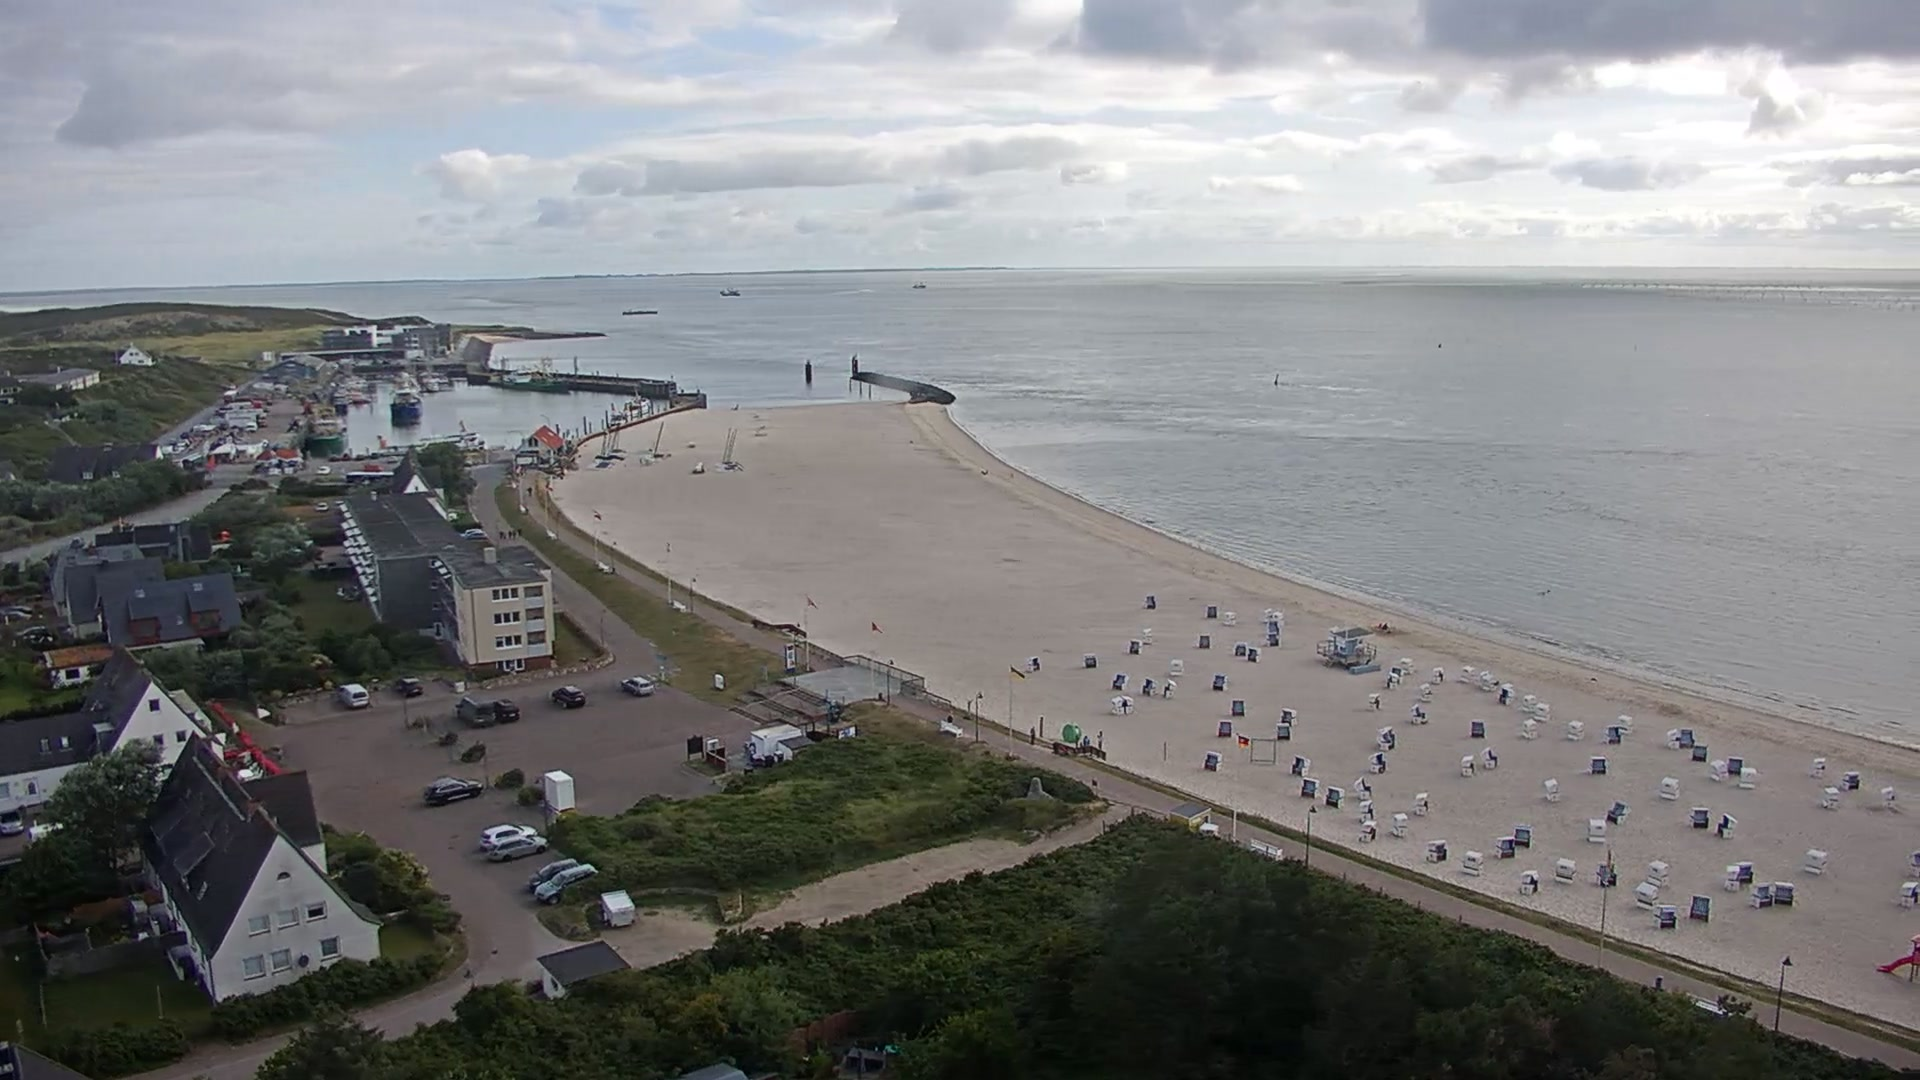human: (1029, 725, 1036, 745), (1096, 729, 1103, 749), (1083, 734, 1090, 746), (1381, 621, 1388, 632), (946, 713, 953, 724), (526, 485, 532, 495), (517, 527, 522, 535), (499, 530, 504, 538), (508, 529, 512, 538), (512, 530, 516, 539)
land: (534, 863, 596, 906), (422, 775, 484, 807), (487, 835, 548, 862), (527, 858, 578, 892), (479, 823, 535, 851), (454, 695, 494, 728), (551, 685, 587, 710), (338, 683, 369, 710), (620, 674, 653, 698), (493, 698, 521, 724), (394, 675, 423, 696), (1, 808, 23, 835), (17, 625, 48, 640), (2, 605, 32, 617), (3, 610, 33, 621), (459, 528, 480, 536), (314, 465, 331, 475), (466, 531, 485, 539), (321, 501, 328, 511), (370, 451, 378, 459), (342, 452, 350, 460), (354, 453, 363, 460), (328, 454, 336, 460)
sea: (372, 421, 486, 454), (609, 386, 650, 428), (306, 418, 347, 456), (501, 369, 570, 392), (390, 389, 422, 425), (622, 307, 659, 314), (719, 286, 741, 296), (912, 281, 927, 288)
